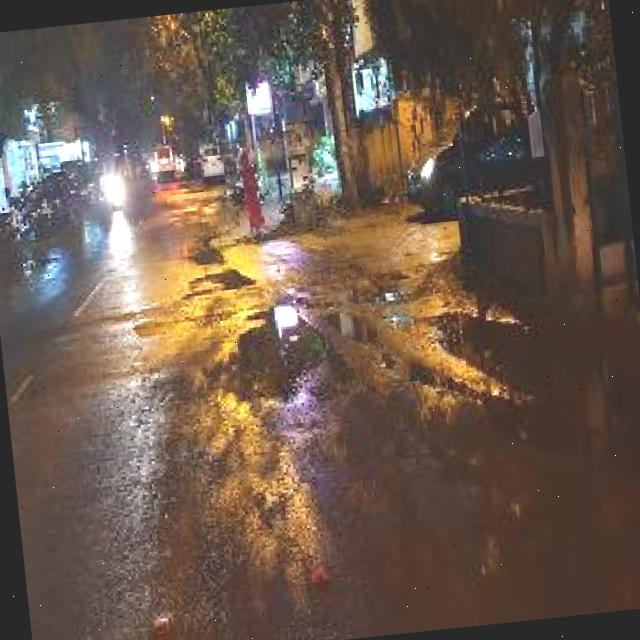stagnation: (340, 268, 510, 416), (186, 282, 338, 428)
